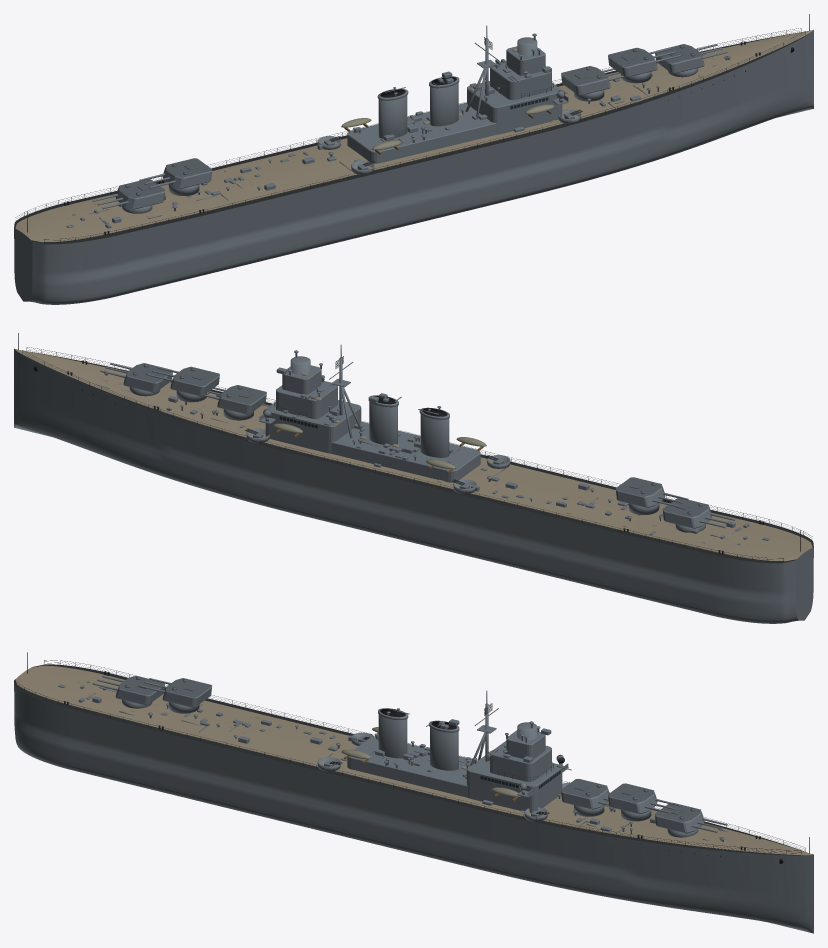
File: brooklyn.glb
3 views of the same model, one above another, from view 1: azimuth 30°, elevation 25°; view 2: azimuth 150°, elevation 25°; view 3: azimuth 330°, elevation 25° (orthographic).
Parts seen in each view (by area): view 1: brooklyn, T_3_malla, T_4_malla, T_1_malla, T_2_malla, T_0_malla; view 2: brooklyn, T_3_malla, T_4_malla, T_1_malla, T_2_malla, T_0_malla; view 3: brooklyn, T_1_malla, T_2_malla, T_0_malla, T_3_malla, T_4_malla.
Boxes of the visible parts, <box> form: brooklyn: <box>14,14,813,304</box>; T_3_malla: <box>162,158,212,188</box>; T_4_malla: <box>116,179,165,209</box>; T_1_malla: <box>608,47,657,77</box>; T_2_malla: <box>561,66,610,95</box>; T_0_malla: <box>655,44,704,73</box>; brooklyn: <box>14,333,813,623</box>; T_3_malla: <box>615,477,665,507</box>; T_4_malla: <box>662,498,711,528</box>; T_1_malla: <box>170,366,219,396</box>; T_2_malla: <box>217,385,266,414</box>; T_0_malla: <box>123,363,172,392</box>; brooklyn: <box>14,652,813,933</box>; T_1_malla: <box>608,783,657,814</box>; T_2_malla: <box>561,779,609,809</box>; T_0_malla: <box>655,802,704,833</box>; T_3_malla: <box>162,678,212,707</box>; T_4_malla: <box>115,675,165,705</box>.
Size of the model in its own units: 185 by 36.5 by 18.9.
